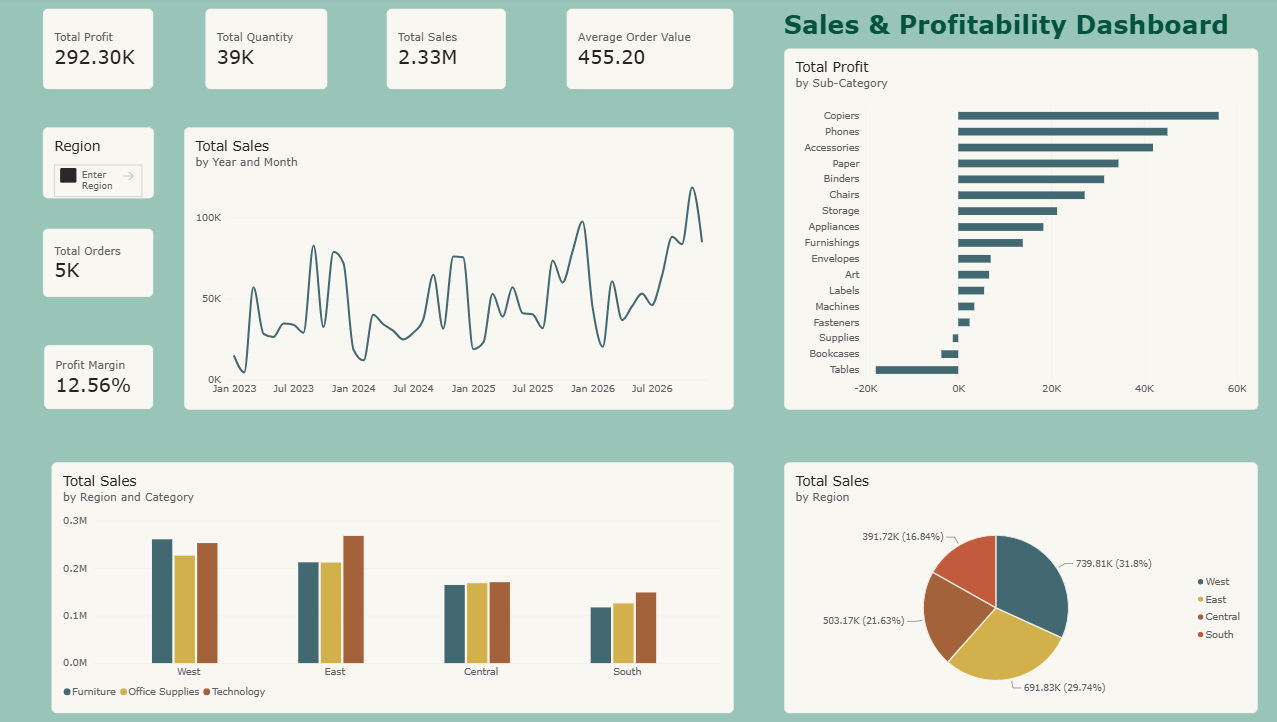

The page's visual inventory and layout, read from the dashboard file:
{"tool":"powerbi","page":{"name":"Page 1","canvas":[1920,1080],"ordinal":0},"visuals":[{"type":"cardVisual","fields":{"Data":["Orders.Total Sales"]},"box":[585.3,18.4,176.7,119.6],"z":0},{"type":"cardVisual","fields":{"Data":["Orders.Total Profit"]},"box":[79.1,18.4,163.8,119.6],"z":1000},{"type":"cardVisual","fields":{"Data":["Orders.Total Orders"]},"box":[79.1,342.3,163.8,101.2],"z":2000},{"type":"cardVisual","fields":{"Data":["Orders.Average Order Value"]},"box":[850.3,18.4,246.6,119.6],"z":3000},{"type":"cardVisual","fields":{"Data":["Orders.Profit Margin"]},"box":[81,513.5,162,95.7],"z":4000},{"type":"cardVisual","fields":{"Data":["Orders.Total Quantity"]},"box":[318.4,18.4,180.4,119.6],"z":5000},{"type":"lineChart","fields":{"Category":["Orders.Order Date.Variation.Date Hierarchy.Year","Orders.Order Date.Variation.Date Hierarchy.Month"],"Y":["Orders.Total Sales"]},"box":[287.1,193.3,809.8,416],"z":6000},{"type":"clusteredBarChart","fields":{"Category":["Orders.Sub-Category"],"Y":["Orders.Total Profit"]},"box":[1170,78,698,532],"z":7000},{"type":"clusteredColumnChart","fields":{"Category":["Orders.Region"],"Series":["Orders.Category"],"Y":["Orders.Total Sales"]},"box":[92,686.5,1004.9,369.9],"z":8000},{"type":"pieChart","fields":{"Category":["Orders.Region"],"Y":["Orders.Total Sales"]},"box":[1170.6,686.5,697.5,369.9],"z":9000},{"type":"textSlicer","fields":{"Values":["Orders.Region"]},"box":[79.1,193.3,163.8,104.9],"z":10000},{"type":"textbox","box":[1170,18,750,60],"z":11000}]}

Visuals, with their boxes in screenshot pixels (x1, y1, x2, y2), scaled from the page's 1920x1080 canvas onto the 1277x722 screenshot:
cardVisual - Orders.Total Sales: [389, 12, 507, 92]
cardVisual - Orders.Total Profit: [53, 12, 162, 92]
cardVisual - Orders.Total Orders: [53, 229, 162, 296]
cardVisual - Orders.Average Order Value: [566, 12, 730, 92]
cardVisual - Orders.Profit Margin: [54, 343, 162, 407]
cardVisual - Orders.Total Quantity: [212, 12, 332, 92]
lineChart - Orders.Order Date.Variation.Date Hierarchy.Year x Orders.Order Date.Variation.Date Hierarchy.Month: [191, 129, 730, 407]
clusteredBarChart - Orders.Sub-Category x Orders.Total Profit: [778, 52, 1242, 408]
clusteredColumnChart - Orders.Region x Orders.Category: [61, 459, 730, 706]
pieChart - Orders.Region x Orders.Total Sales: [779, 459, 1242, 706]
textSlicer - Orders.Region: [53, 129, 162, 199]
textbox: [778, 12, 1276, 52]
